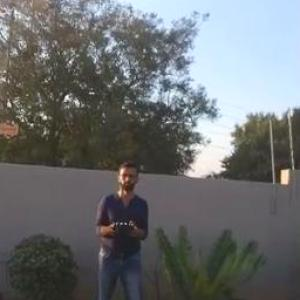follow: (90, 153, 168, 299)
